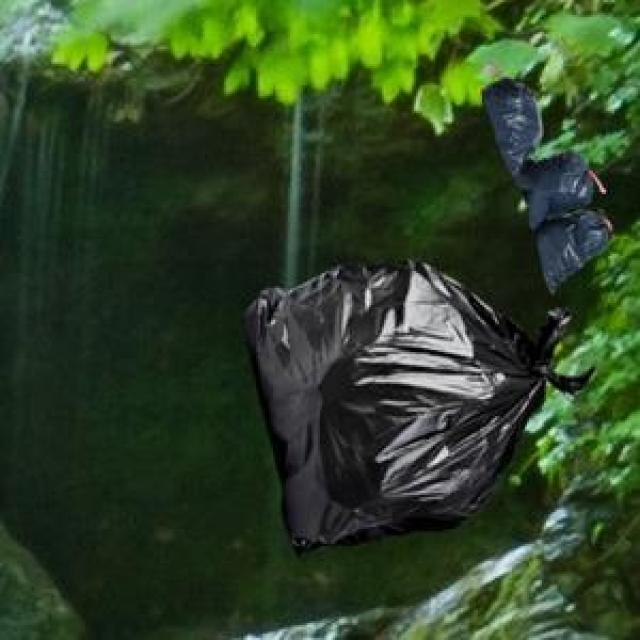miscellaneous trash: (239, 256, 591, 553), (478, 75, 608, 288)
